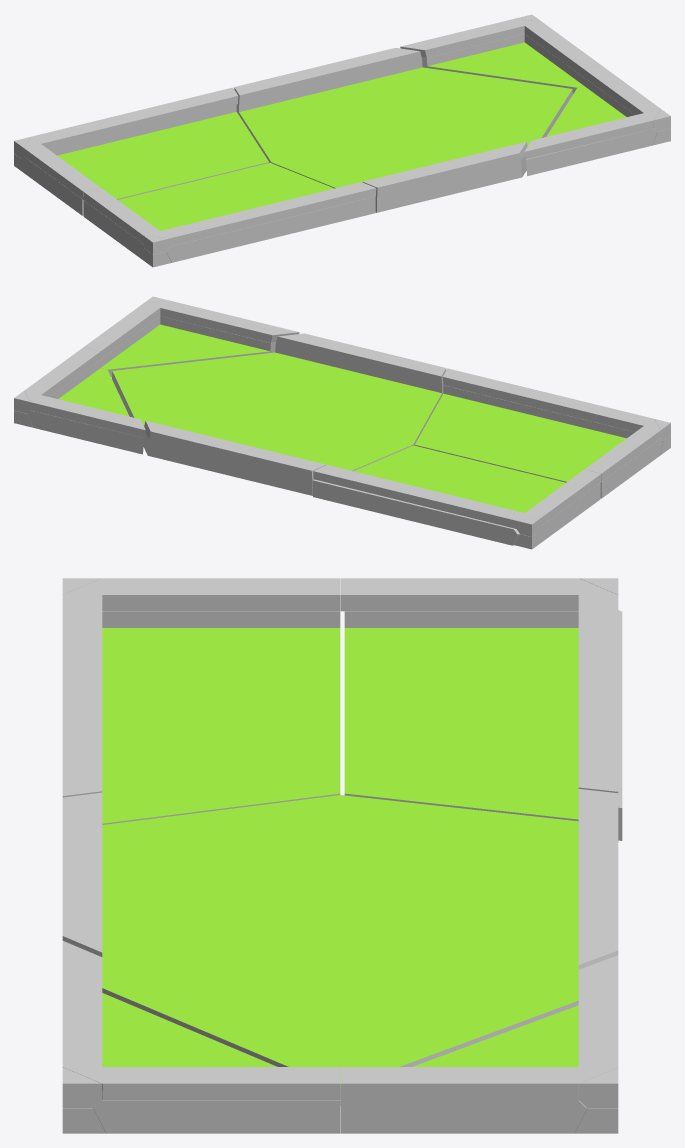
Rendered from Damaged Grave Stage_1.fbx.
3 views of the same model, one above another, from view 1: azimuth 30°, elevation 25°; view 2: azimuth 150°, elevation 25°; view 3: azimuth 270°, elevation 25° (orthographic). The views are drawn at different scales.
Visible parts, largest first — view 1: Grave Bottom_cell; view 2: Grave Bottom_cell; view 3: Grave Bottom_cell.
Boxes of the visible parts, box(x1,y1,x2,y2) form: Grave Bottom_cell: box(14, 14, 670, 267); Grave Bottom_cell: box(14, 296, 670, 549); Grave Bottom_cell: box(62, 578, 622, 1133).
Bounding box in the file's own units: 815 × 37.56 × 381.
